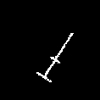double_crochet: (37, 33, 72, 81)
